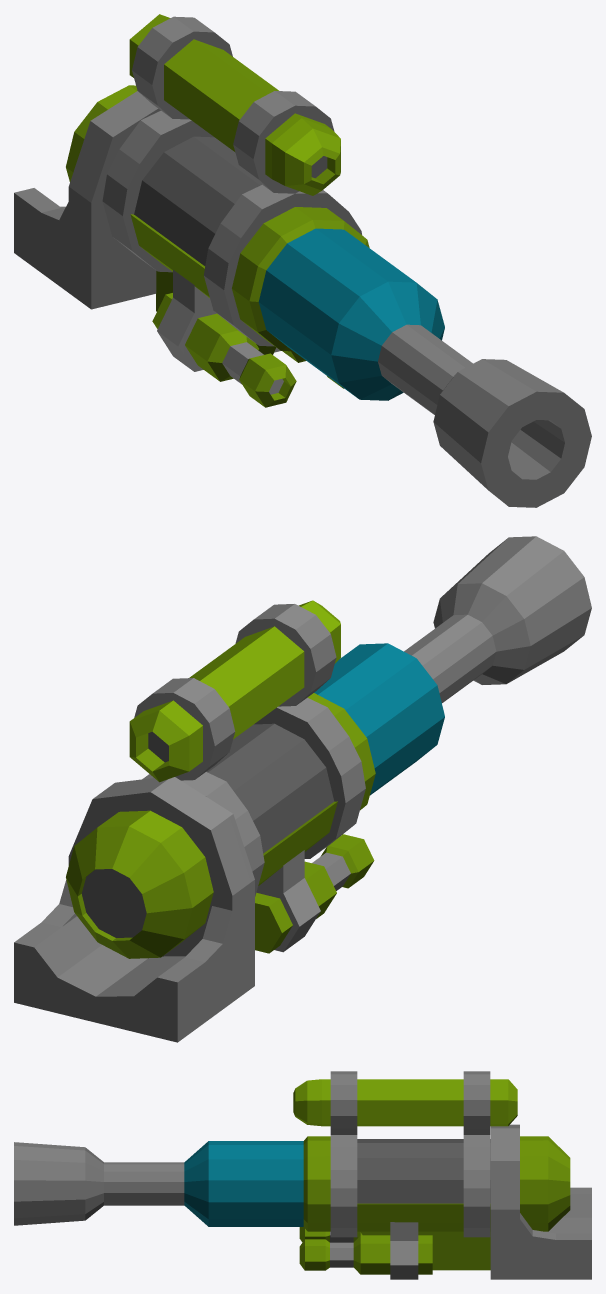
Rendered from CannonG_Barrel02.FBX.
3 renders of one model, top to bottom at view 1: azimuth 30°, elevation 25°; view 2: azimuth 150°, elevation 25°; view 3: azimuth 270°, elevation 25°, orthographic. The views are drawn at different scales.
Parts seen in each view (by area): view 1: CannonG_Barrel02; view 2: CannonG_Barrel02; view 3: CannonG_Barrel02.
Boxes of the visible parts, x1,y1,x2,y2 form: CannonG_Barrel02: [14, 14, 591, 507]; CannonG_Barrel02: [14, 536, 591, 1042]; CannonG_Barrel02: [14, 1071, 591, 1279].
Size of the model in its own units: 89.79 by 152 by 419.
